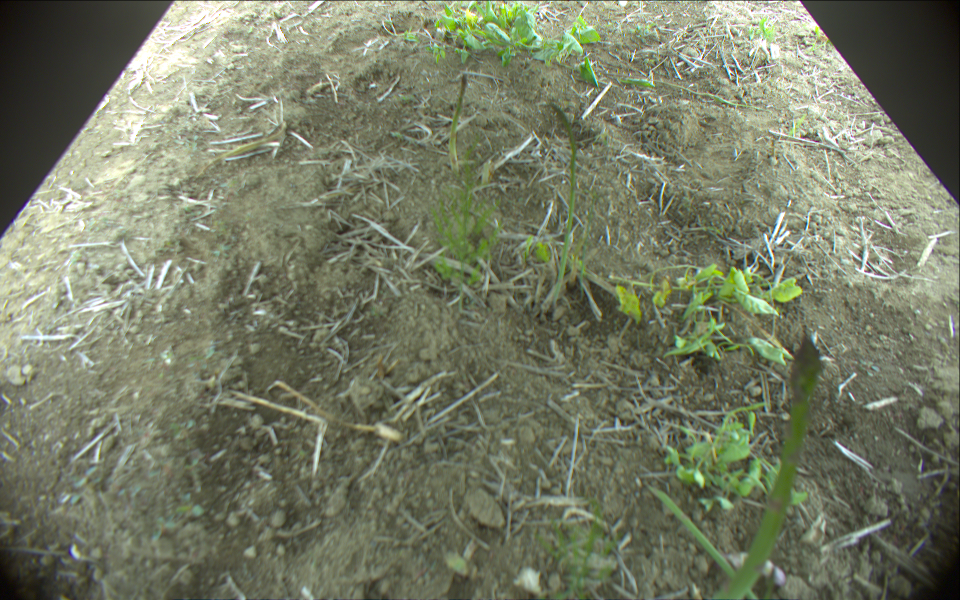aspa: (712, 328, 821, 600), (644, 481, 760, 600), (548, 97, 576, 294), (445, 69, 467, 184)
